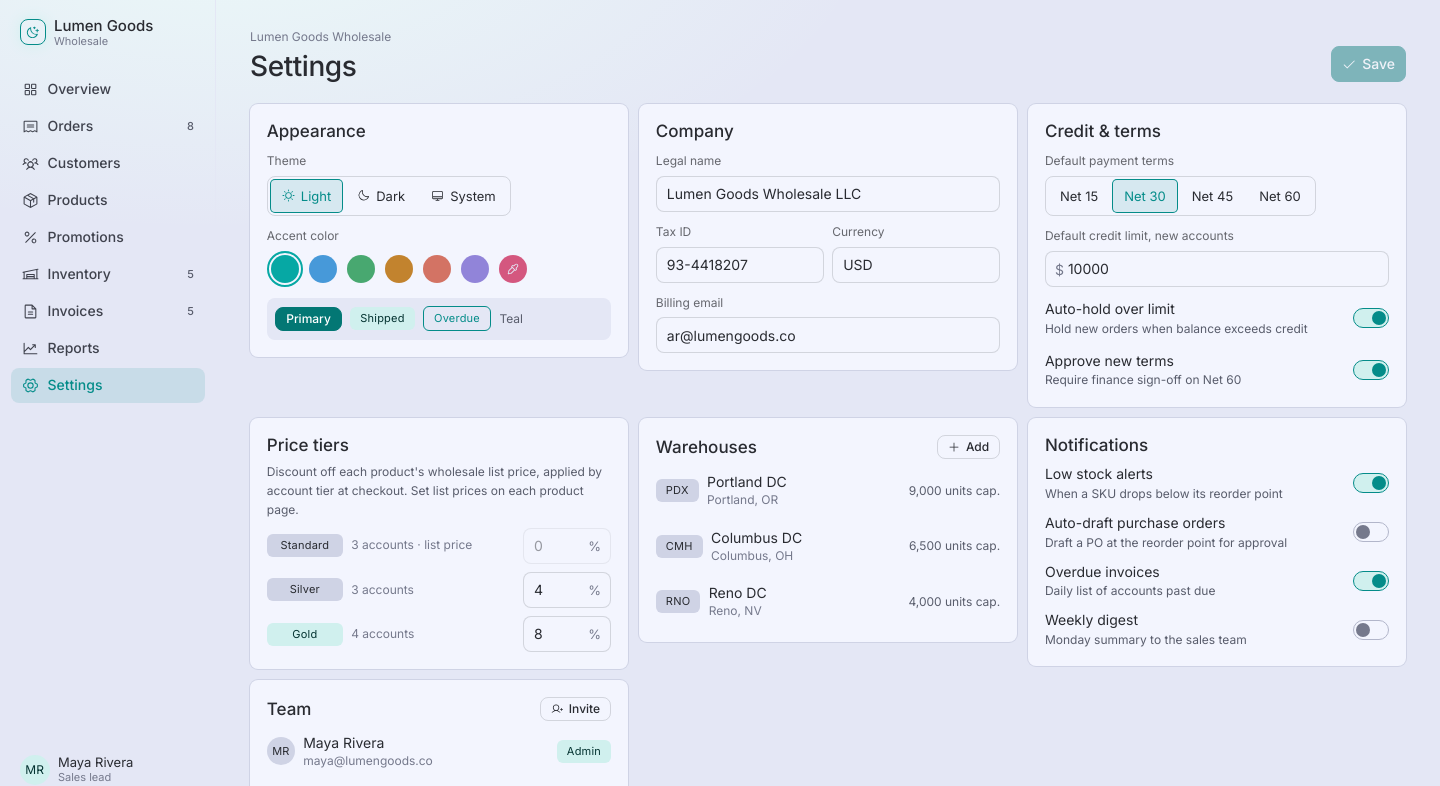
Test: settings save › drops an unsaved appearance preview when the user leaves Settings
Click the button named "Coral" at (437, 269), box [419,251,455,287]
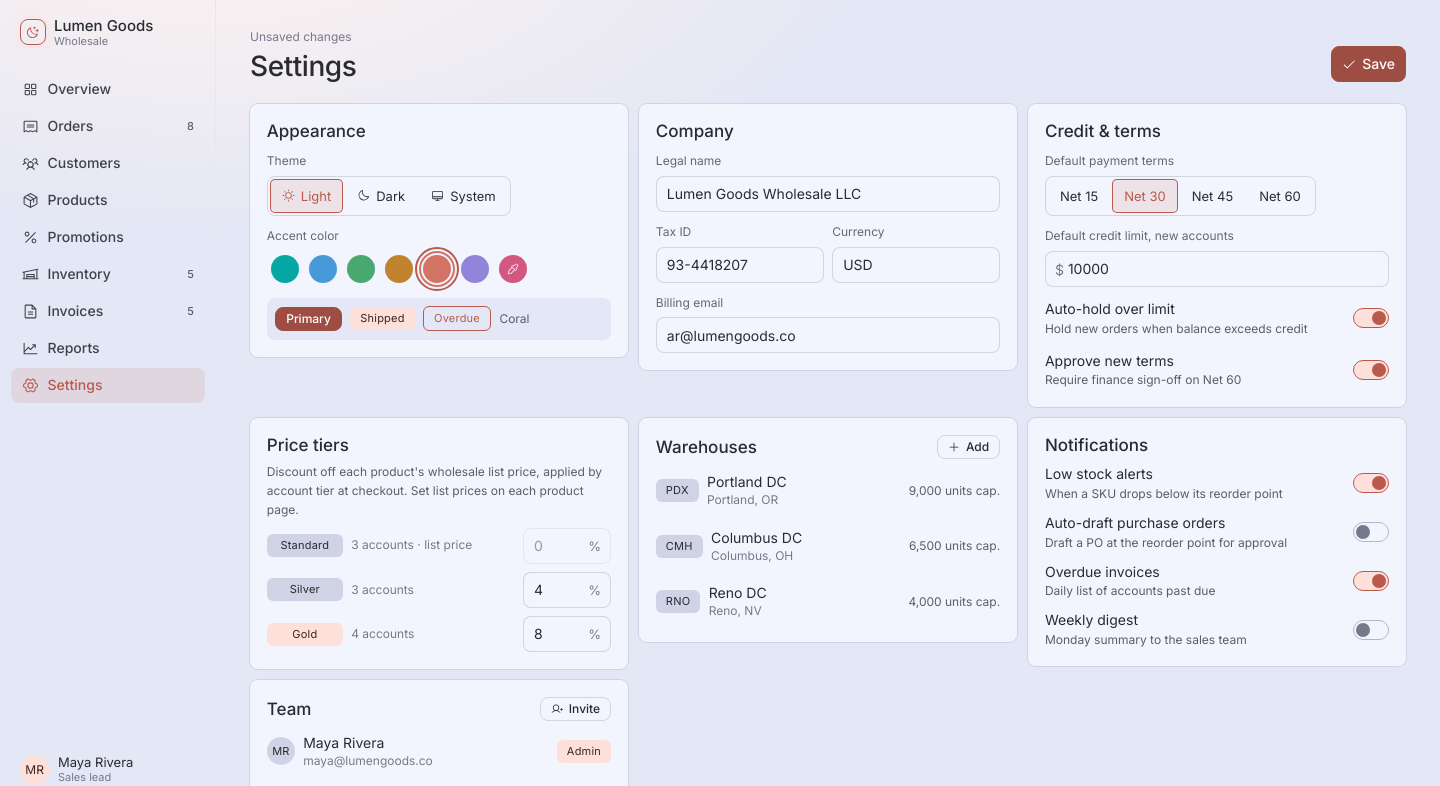
Result: the button "Save" is enabled at [1331,46,1406,82]
Click the link "Overview" at (67, 89), box [22,80,111,98]
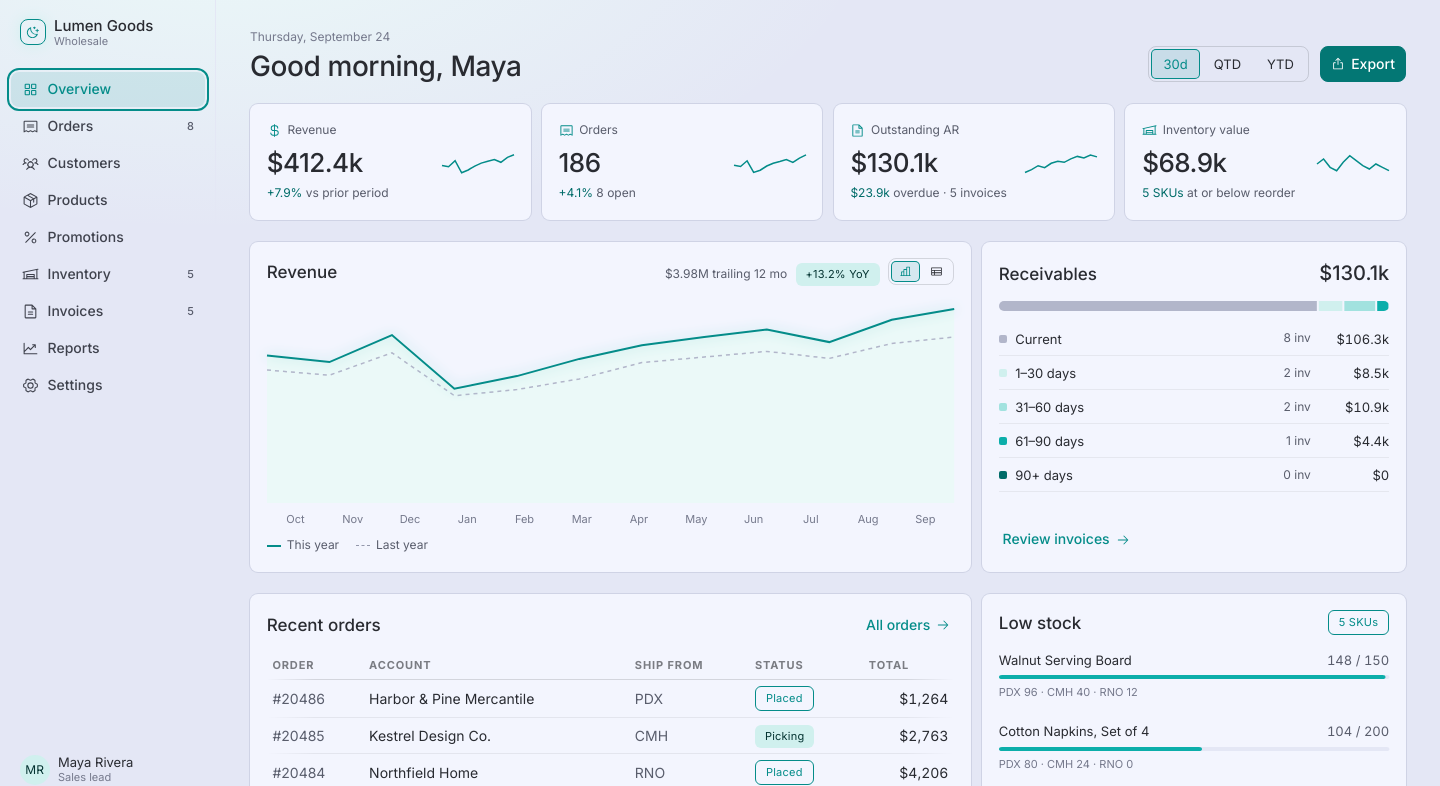
Result: the heading "Good morning, Maya" is shown at [250,51,522,82]
